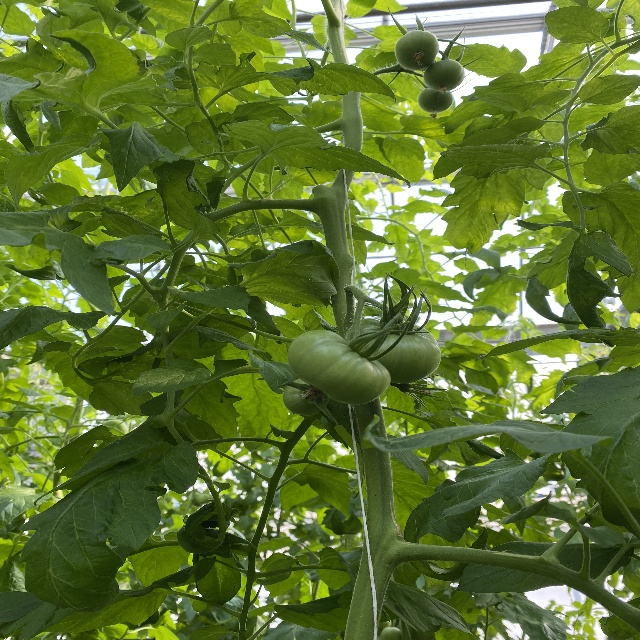b_green: (287, 330, 392, 404), (345, 316, 441, 384), (395, 30, 440, 71), (283, 378, 329, 416), (423, 59, 465, 92), (418, 88, 454, 114)
